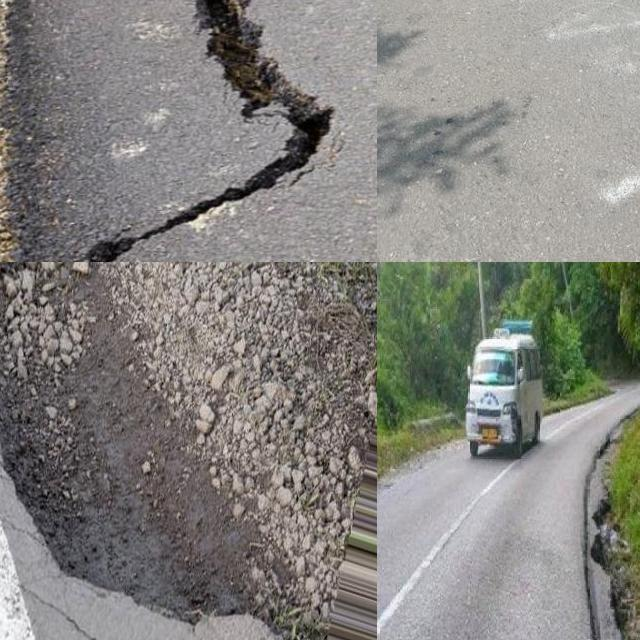Pinggir: (0, 262, 309, 640), (0, 0, 361, 262), (563, 437, 640, 640)
